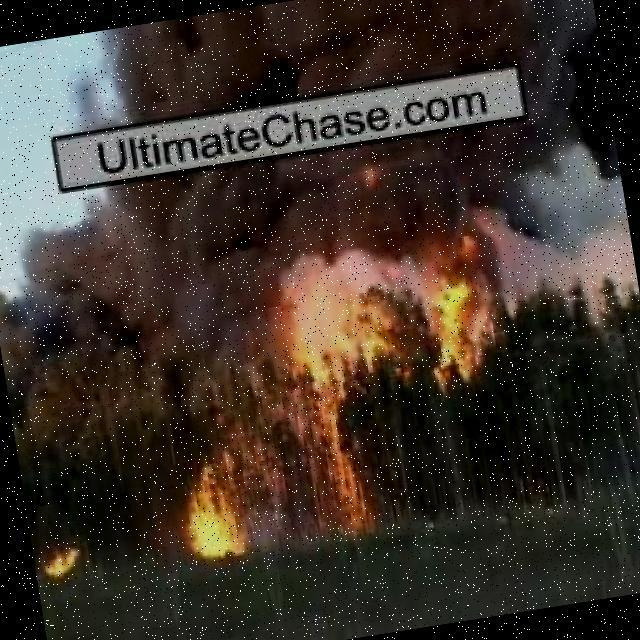Fire: (294, 332, 388, 534), (413, 242, 491, 387), (170, 453, 253, 551), (40, 539, 84, 583)
